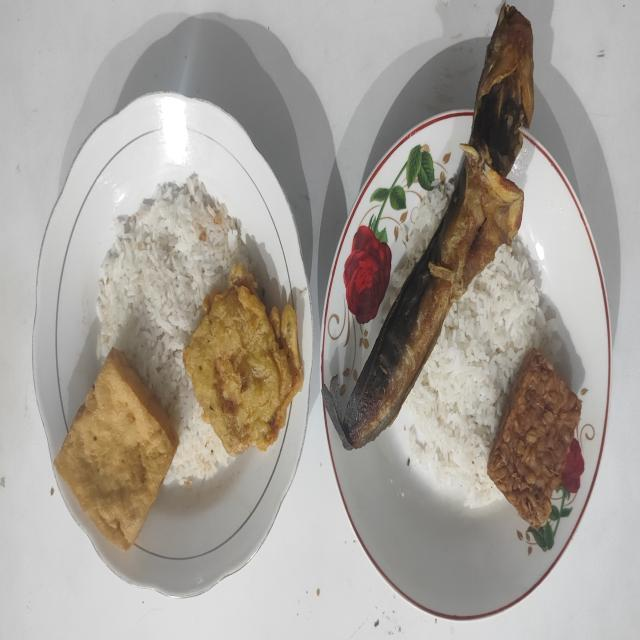nasi_putih: (96, 174, 248, 480), (405, 241, 559, 507), (384, 182, 454, 322)
tahu_goreng: (54, 348, 179, 550)
tempe_goreng: (488, 348, 582, 530)
